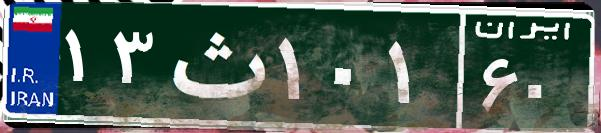0: (330, 28, 385, 110), (525, 38, 570, 115)
1: (385, 28, 445, 110), (273, 28, 330, 110), (57, 26, 110, 107)
3: (110, 28, 158, 105)
6: (475, 38, 525, 113)
ث: (158, 15, 273, 115)
